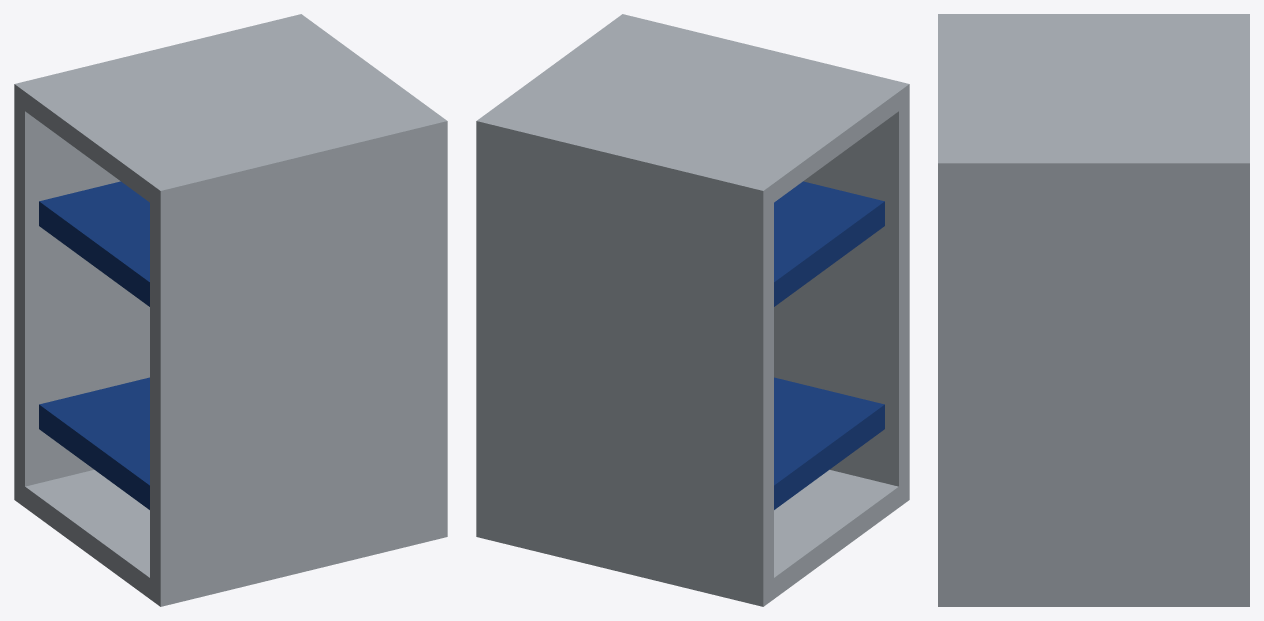
File: L128_REAR_USB5G.fbx
3 renders of one model, left to right at view 1: azimuth 30°, elevation 25°; view 2: azimuth 150°, elevation 25°; view 3: azimuth 270°, elevation 25°, orthographic. The views are drawn at different scales.
Visible parts, largest first — view 1: REAR_USB5G__Steel, REAR_USB5G__Blue; view 2: REAR_USB5G__Steel, REAR_USB5G__Blue; view 3: REAR_USB5G__Steel.
Boxes of the visible parts, box(x1,y1,x2,y2) form: REAR_USB5G__Steel: box(14, 14, 447, 606); REAR_USB5G__Blue: box(39, 181, 149, 509); REAR_USB5G__Steel: box(476, 14, 909, 606); REAR_USB5G__Blue: box(774, 181, 884, 509); REAR_USB5G__Steel: box(938, 14, 1249, 606).
Size of the model in its own units: 17 by 23.55 by 15.
